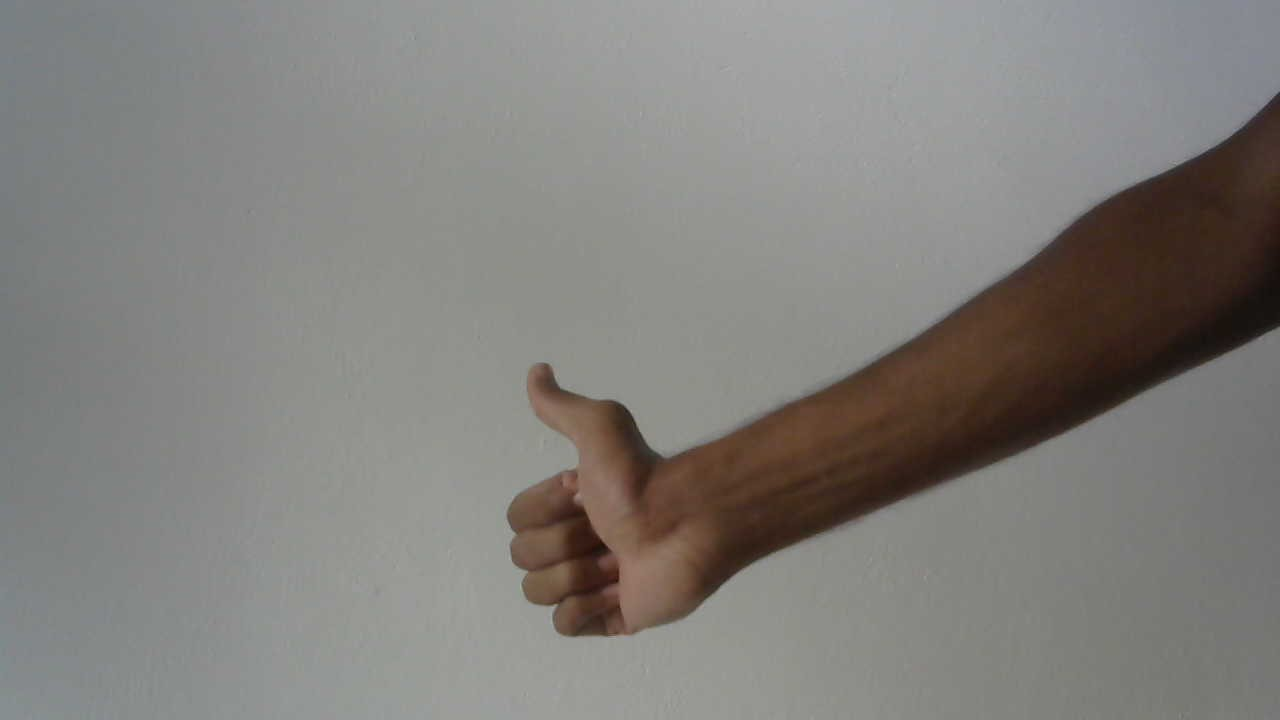thumbsup: (503, 347, 734, 664)
